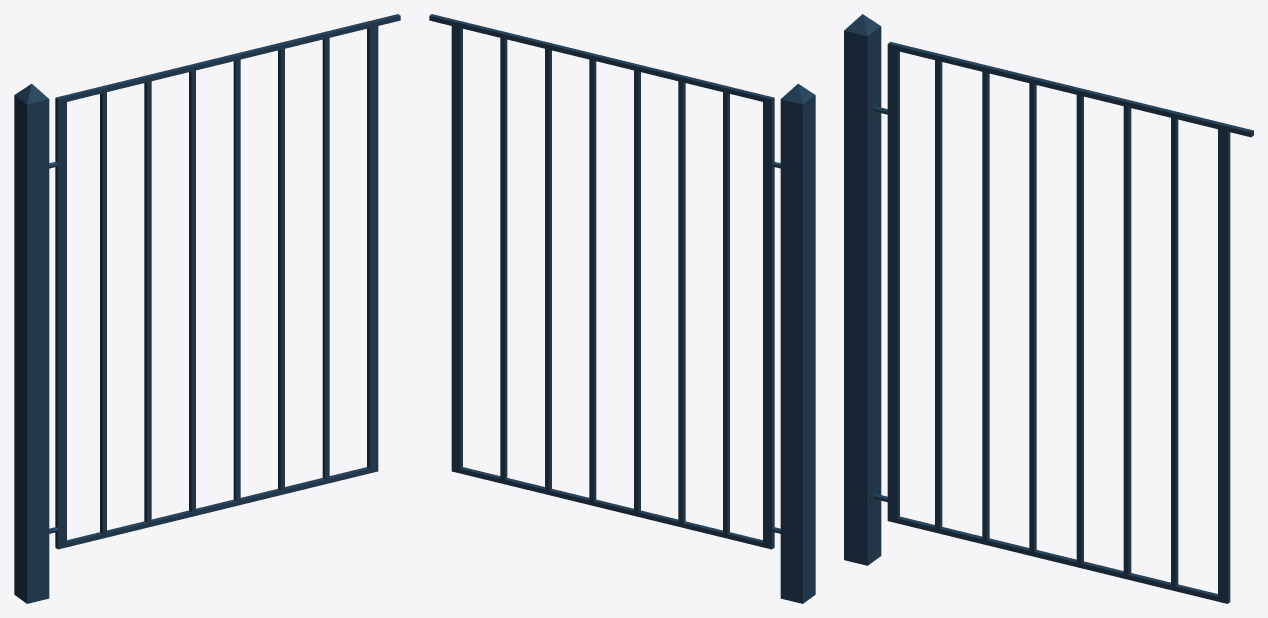
The model's file is fence_grid_gate.glb.
The picture shows the model from 3 angles, left to right: view 1: azimuth 30°, elevation 25°; view 2: azimuth 150°, elevation 25°; view 3: azimuth 330°, elevation 25°; orthographic projection. The views are drawn at different scales.
Bounding box in the file's own units: 85 × 110 × 5.
